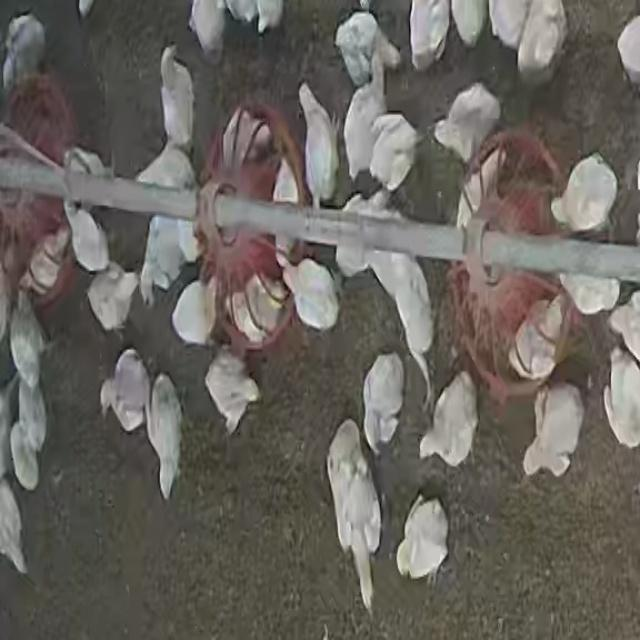chicken: (370, 246, 438, 410), (327, 422, 382, 620), (522, 382, 583, 480), (432, 84, 501, 168), (419, 372, 478, 469), (297, 82, 341, 208), (342, 64, 386, 187), (508, 295, 567, 383), (554, 153, 617, 235), (514, 0, 570, 89), (202, 348, 258, 436), (395, 494, 449, 584), (339, 7, 398, 85), (455, 149, 507, 236), (366, 113, 420, 196), (140, 218, 197, 296), (158, 43, 197, 154), (148, 375, 182, 501), (98, 348, 149, 431), (365, 344, 401, 458), (0, 122, 68, 182), (286, 257, 339, 333), (85, 263, 139, 335), (222, 275, 281, 340), (9, 294, 47, 394), (2, 10, 46, 96), (21, 223, 71, 298), (62, 196, 110, 274), (331, 194, 374, 279), (603, 353, 640, 448), (407, 0, 451, 72), (135, 142, 197, 192), (557, 271, 621, 317), (171, 278, 213, 348), (224, 109, 270, 166), (0, 478, 27, 575), (17, 376, 48, 449), (186, 0, 227, 55), (609, 288, 639, 361), (489, 0, 530, 51), (274, 162, 295, 261), (448, 1, 486, 52), (616, 14, 640, 93), (11, 425, 37, 492), (63, 145, 109, 180), (254, 0, 289, 34), (221, 0, 259, 26)
